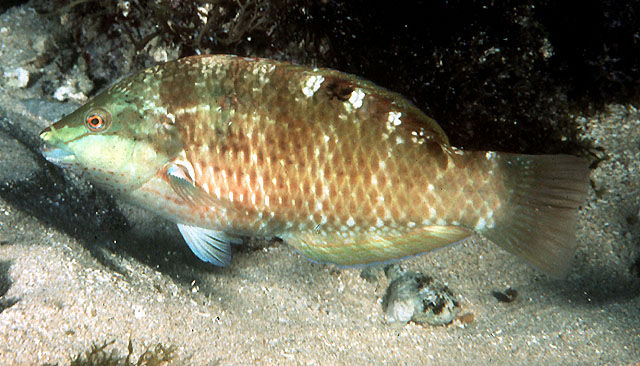fish: (39, 53, 592, 280)
